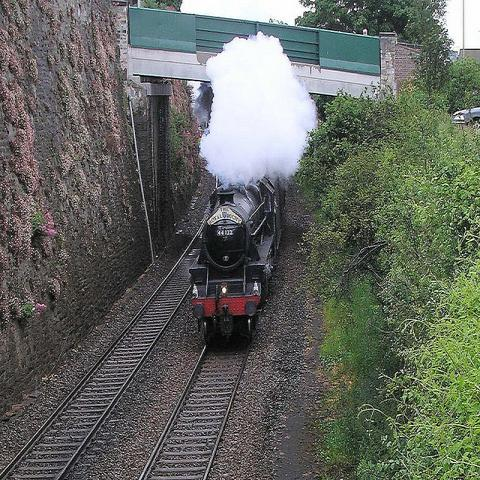car: (453, 105, 479, 129)
